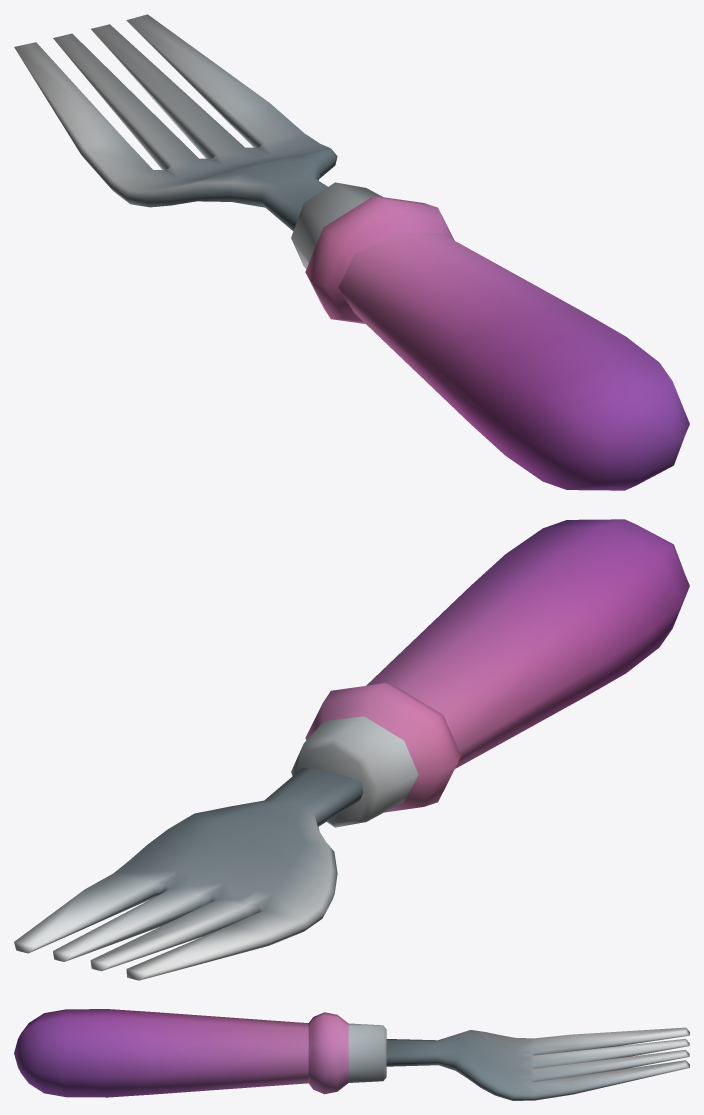
File: fork_001.fbx
3 views of the same model, one above another, from view 1: azimuth 30°, elevation 25°; view 2: azimuth 150°, elevation 25°; view 3: azimuth 270°, elevation 25° (orthographic). The views are drawn at different scales.
Parts seen in each view (by area): view 1: fork_001; view 2: fork_001; view 3: fork_001.
Part boxes in pixels (x1,y1,x2,y2): fork_001: (14,14,689,490); fork_001: (14,519,689,980); fork_001: (14,1009,689,1100).
Size of the model in its own units: 3.99 by 19.72 by 2.43.
